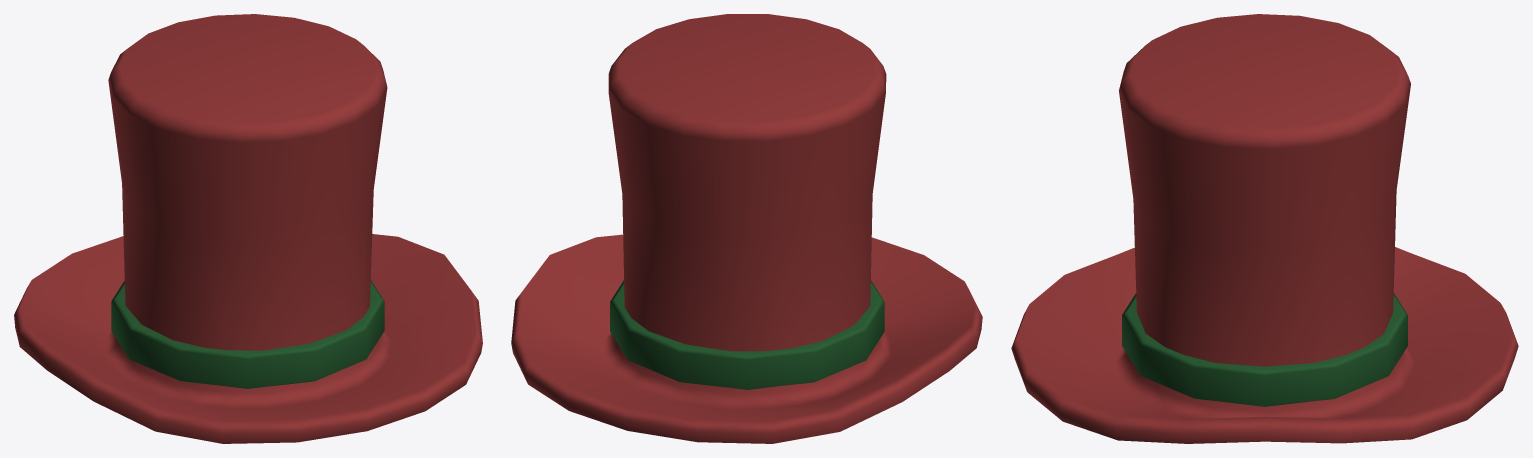
Rendered from Hat_Red.fbx.
3 views of the same model, side by side, from view 1: azimuth 30°, elevation 25°; view 2: azimuth 150°, elevation 25°; view 3: azimuth 270°, elevation 25° (orthographic). The views are drawn at different scales.
Visible parts, largest first — view 1: Hat_Red; view 2: Hat_Red; view 3: Hat_Red.
Boxes of the visible parts, bbox=[...] form: Hat_Red: bbox=[14, 14, 482, 443]; Hat_Red: bbox=[511, 14, 982, 443]; Hat_Red: bbox=[1011, 14, 1518, 443].
Size of the model in its own units: 2.26 by 1.52 by 2.34.
